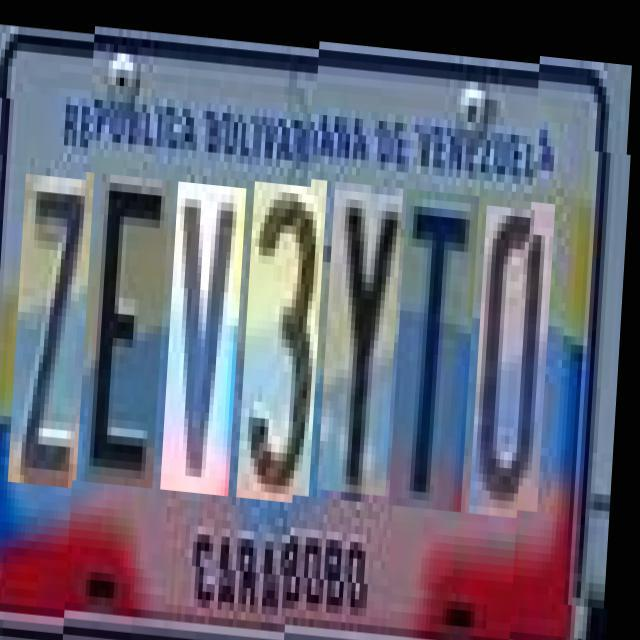0: (474, 194, 556, 508)
3: (242, 168, 330, 490)
E: (90, 163, 172, 477)
T: (394, 180, 482, 502)
V: (166, 169, 248, 483)
Y: (323, 173, 405, 488)
Z: (15, 157, 96, 470)
